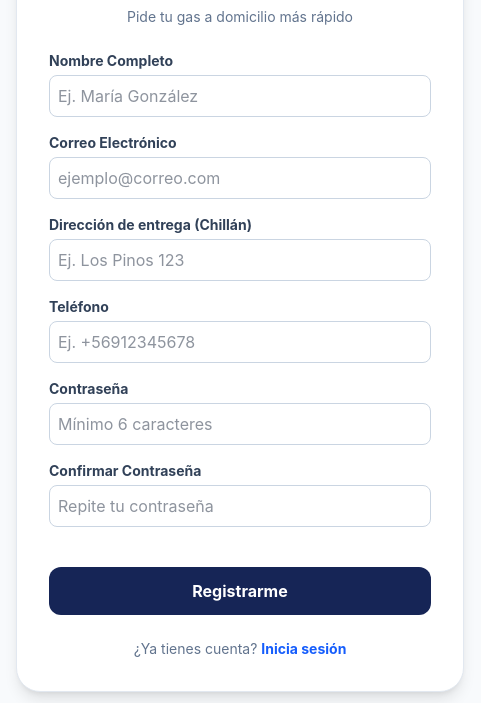
Scenario: Registro › exige completar todos los campos
(page scrolled)
Click the button "Registrarme": {"x": 240, "y": 591} [49,567,431,615]
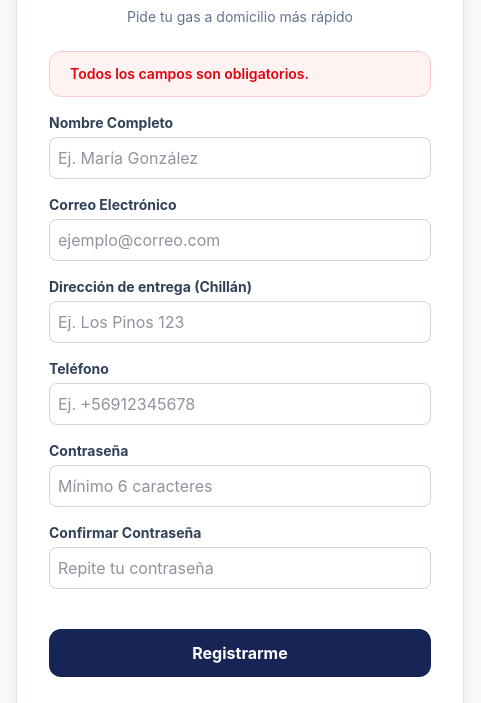
Now the text "Todos los campos son obligatorios." is shown, box [70,64,309,84]
